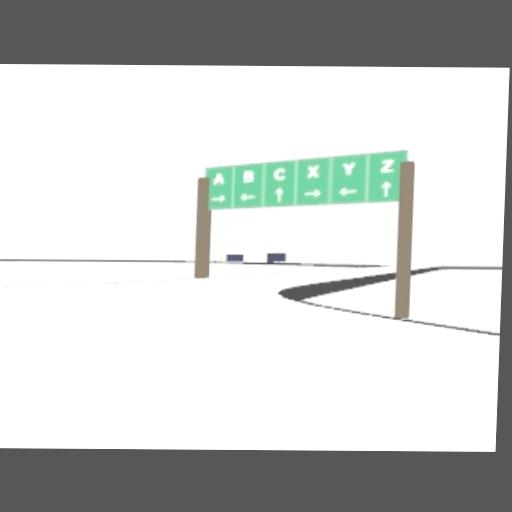A: (213, 172, 226, 186)
B: (242, 170, 255, 184)
C: (272, 166, 287, 182)
Left: (338, 186, 358, 197), (239, 193, 258, 203)
Right: (304, 188, 322, 199), (210, 194, 227, 203)
Straight: (379, 181, 393, 199), (273, 185, 285, 203)
X: (307, 164, 321, 179)
Y: (342, 161, 356, 176)
Z: (380, 158, 396, 174)
